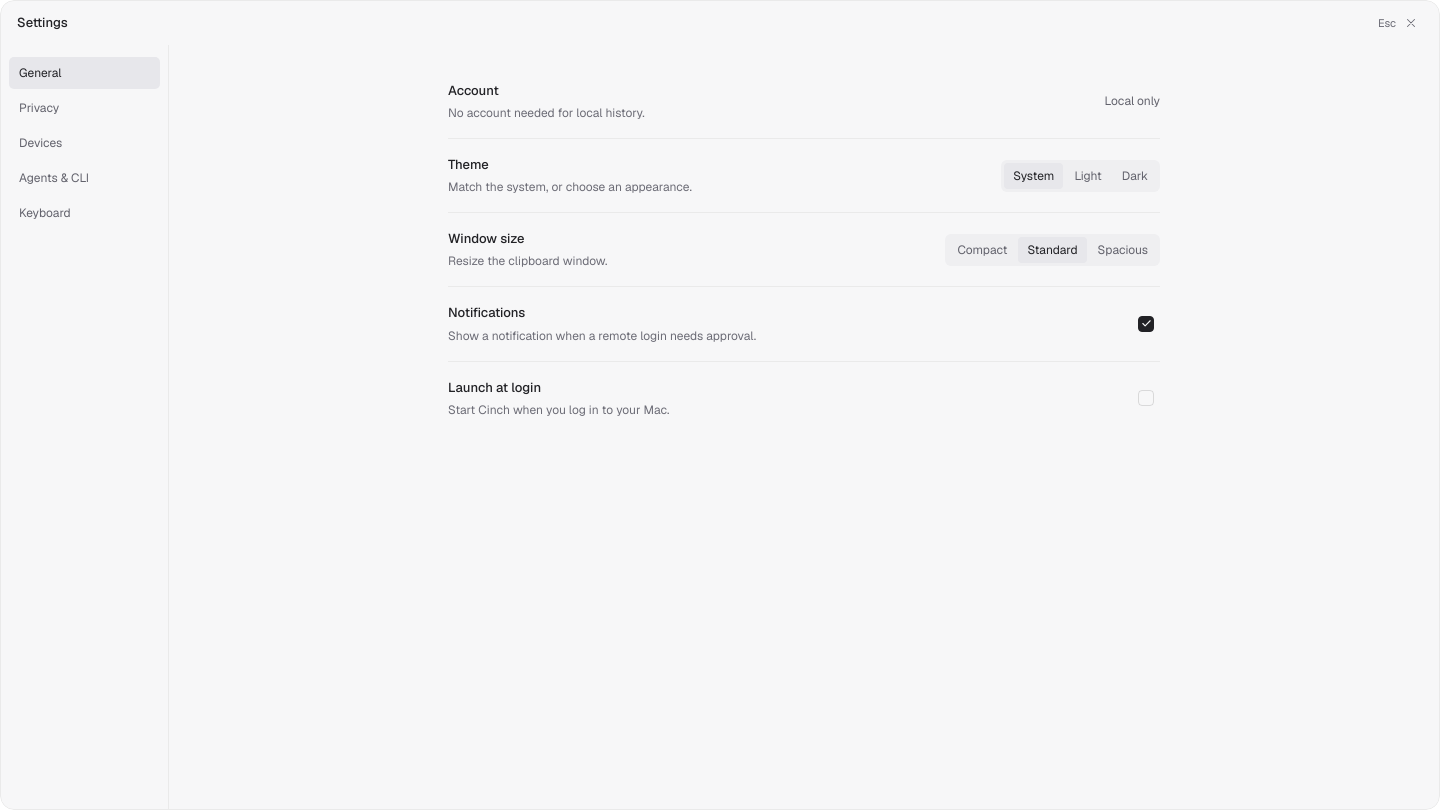
Test: SettingsPane › Global shortcut field › shows error when set_global_shortcut fails
Click the button "Keyboard" at (84, 213), box left=9, top=197, right=160, bottom=229
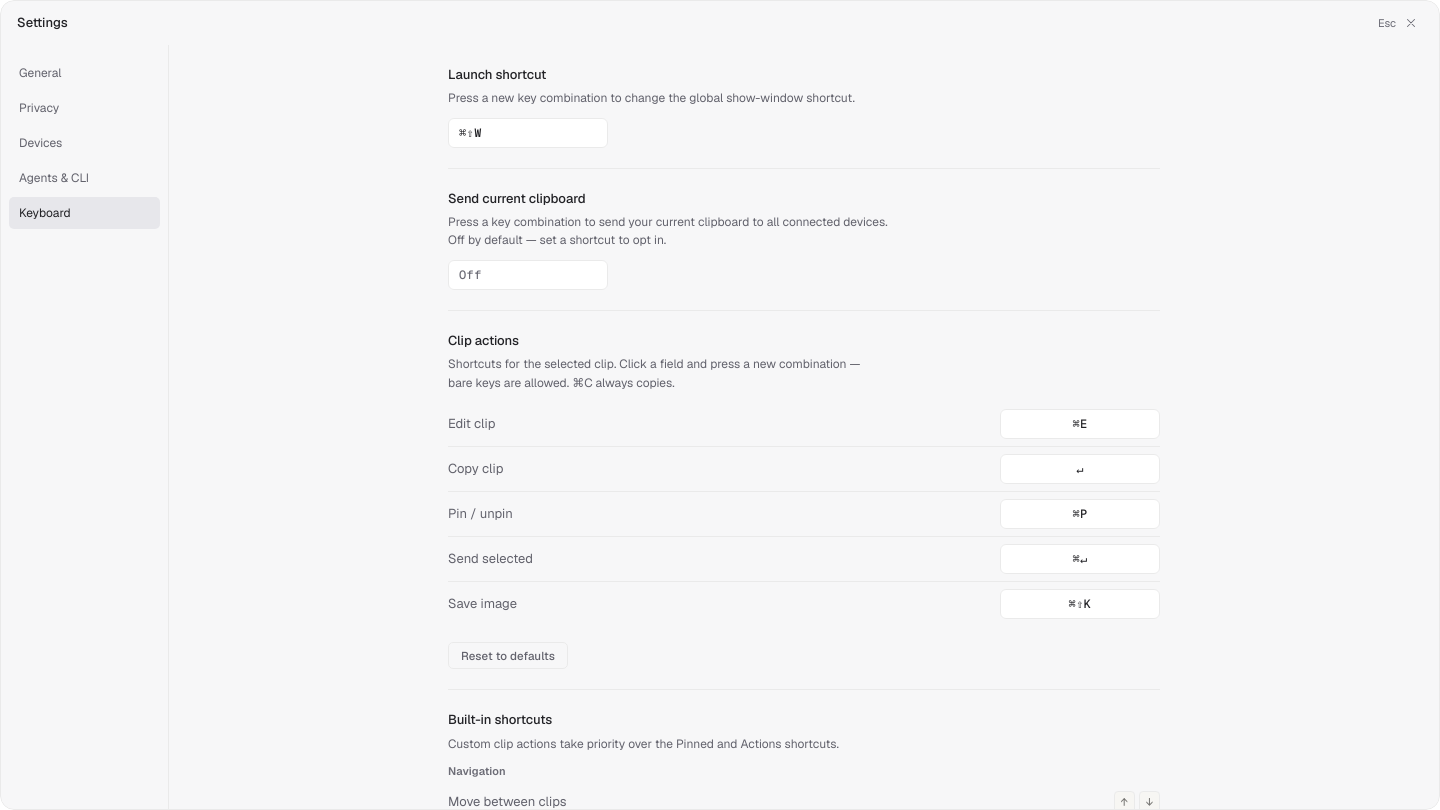
Press x in the field named "Global launch shortcut", box left=448, top=118, right=608, bottom=148
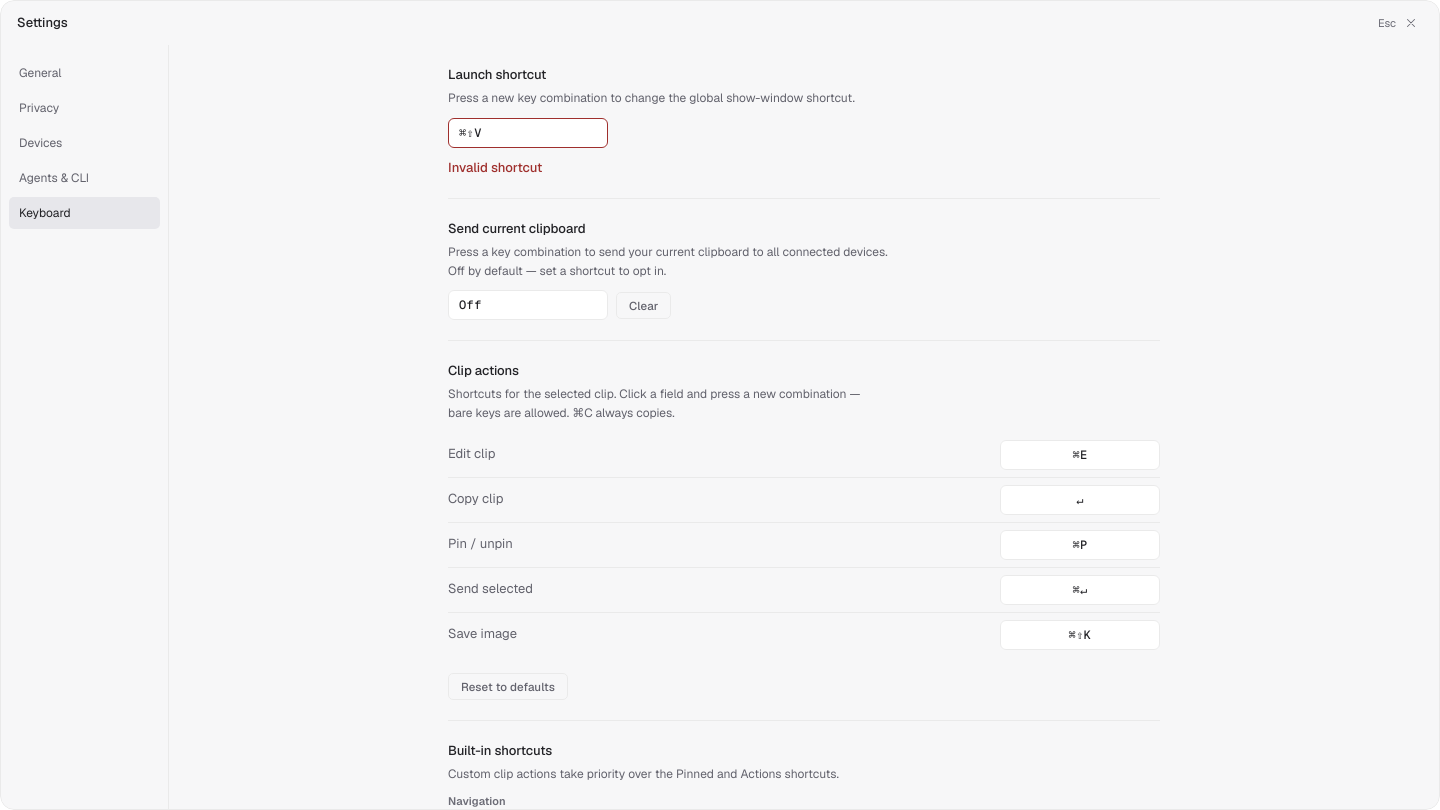
Result: the text "Invalid shortcut" is shown at left=448, top=159, right=542, bottom=176
